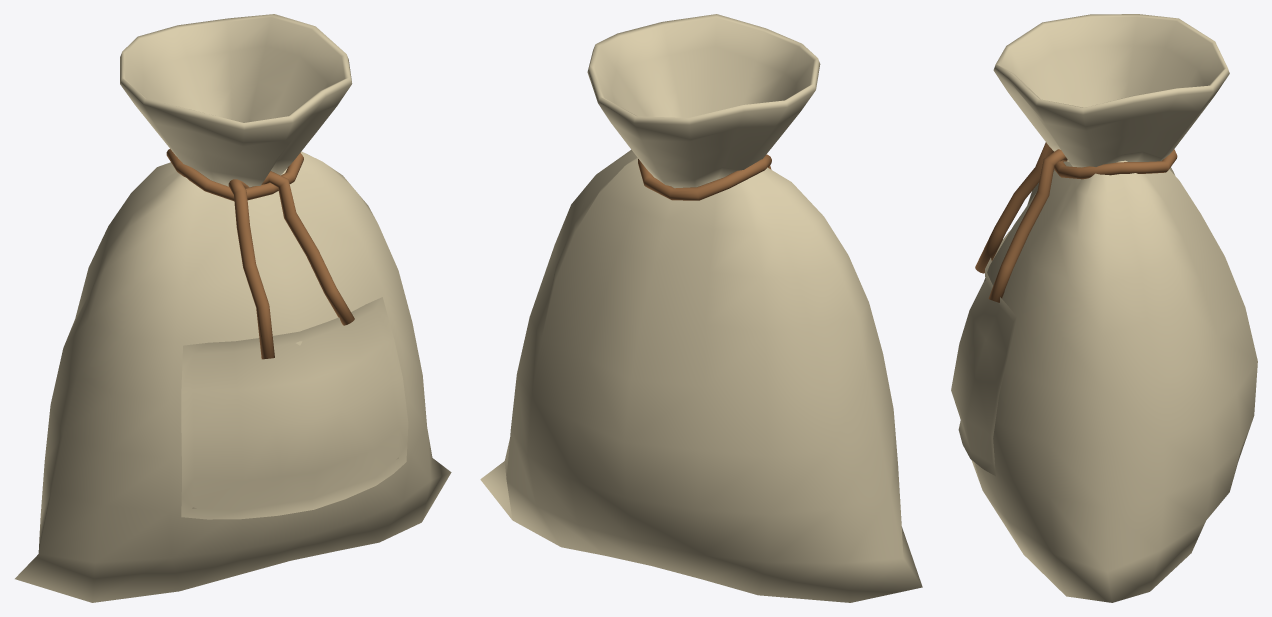
The model's file is Sack.fbx.
3 renders of one model, left to right at view 1: azimuth 30°, elevation 25°; view 2: azimuth 150°, elevation 25°; view 3: azimuth 270°, elevation 25°, orthographic. The views are drawn at different scales.
Parts seen in each view (by area): view 1: Sack; view 2: Sack; view 3: Sack.
Boxes of the visible parts, x1,y1,x2,y2 form: Sack: (15,14,451,602); Sack: (480,14,922,602); Sack: (951,14,1257,602).
Bounding box in the file's own units: 148 × 160 × 94.04.
